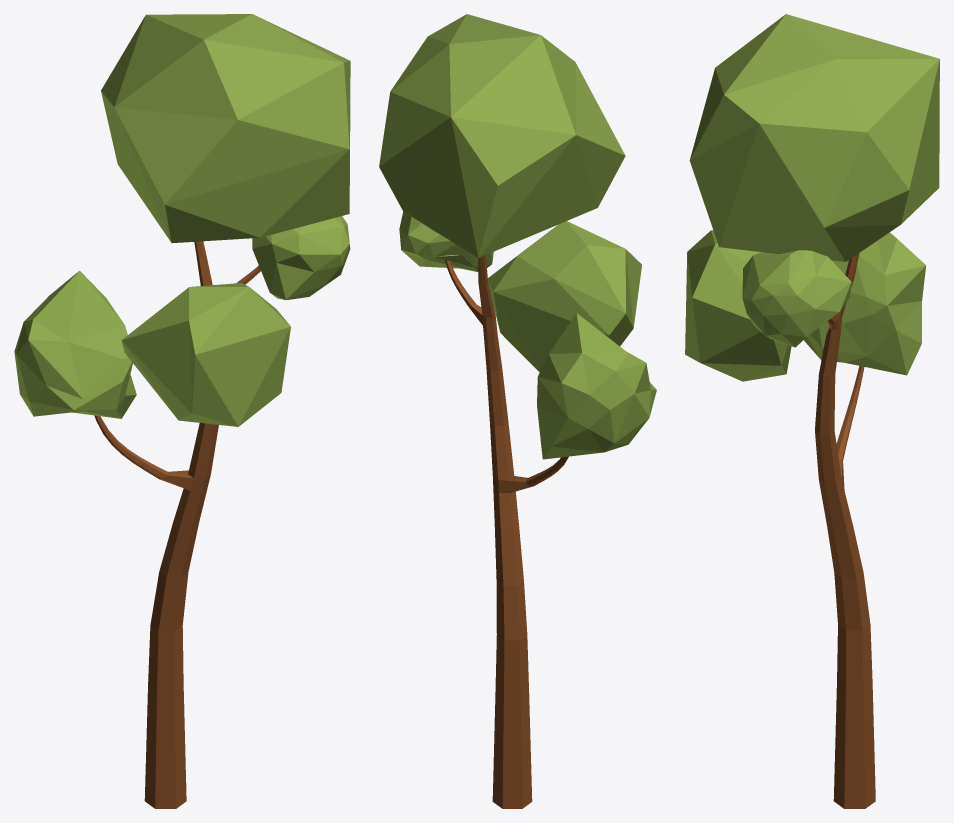
File: Drzewo4.fbx
The picture shows the model from 3 angles, left to right: view 1: azimuth 30°, elevation 25°; view 2: azimuth 150°, elevation 25°; view 3: azimuth 270°, elevation 25°; orthographic projection. The views are drawn at different scales.
Parts seen in each view (by area): view 1: Cylinder.005; view 2: Cylinder.005; view 3: Cylinder.005.
Part boxes in pixels (<box>): Cylinder.005: <box>14,14,350,808</box>; Cylinder.005: <box>379,14,656,808</box>; Cylinder.005: <box>685,14,939,808</box>.
Size of the model in its own units: 935 by 2444 by 715.
